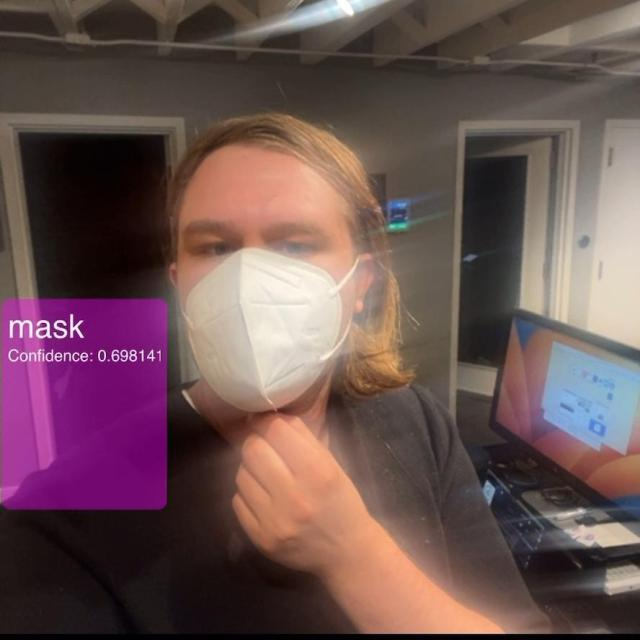no-helmet: (152, 93, 392, 431)
